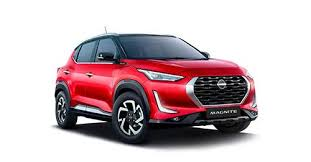Nissan: (58, 39, 258, 135)
